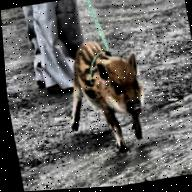boar: (58, 31, 160, 161)
